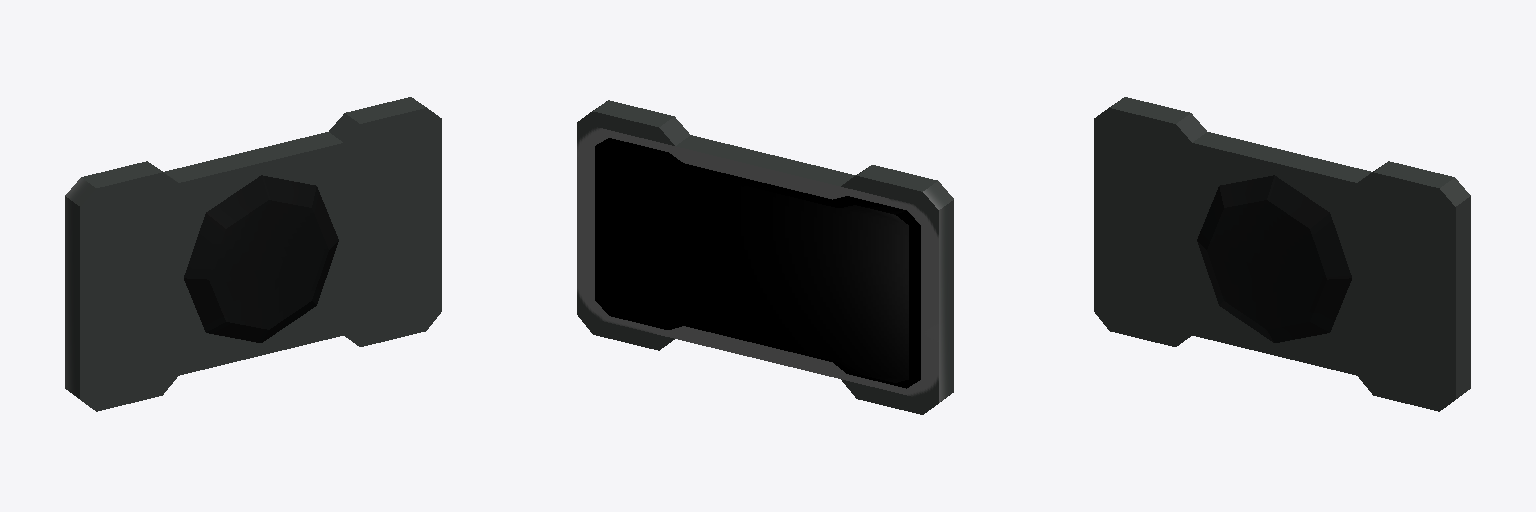
3 renders of one model, left to right at view 1: azimuth 30°, elevation 25°; view 2: azimuth 150°, elevation 25°; view 3: azimuth 330°, elevation 25°, orthographic.
Parts seen in each view (by area): view 1: 立方体; view 2: 立方体; view 3: 立方体.
Boxes of the visible parts, x1,y1,x2,y2 form: 立方体: [65, 97, 441, 411]; 立方体: [577, 100, 953, 414]; 立方体: [1094, 97, 1470, 411].
Size of the model in its own units: 2.19 by 1.29 by 0.2729.
Materials: 1 (1 with a texture image).